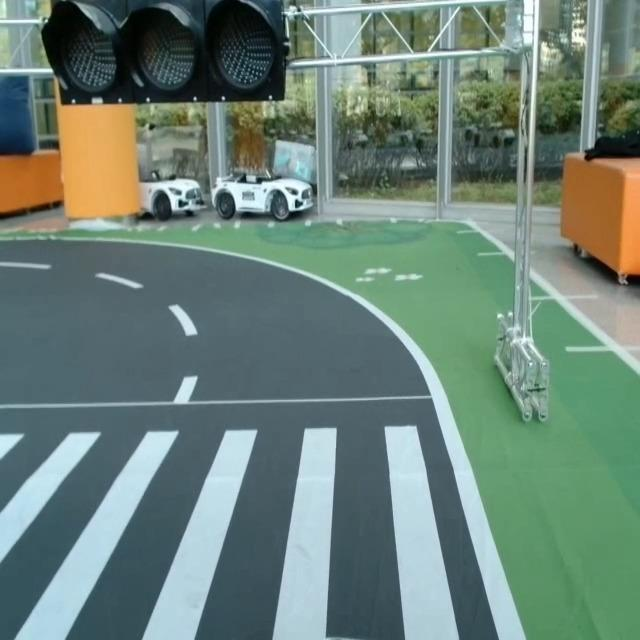traffic-light: (32, 0, 291, 103)
